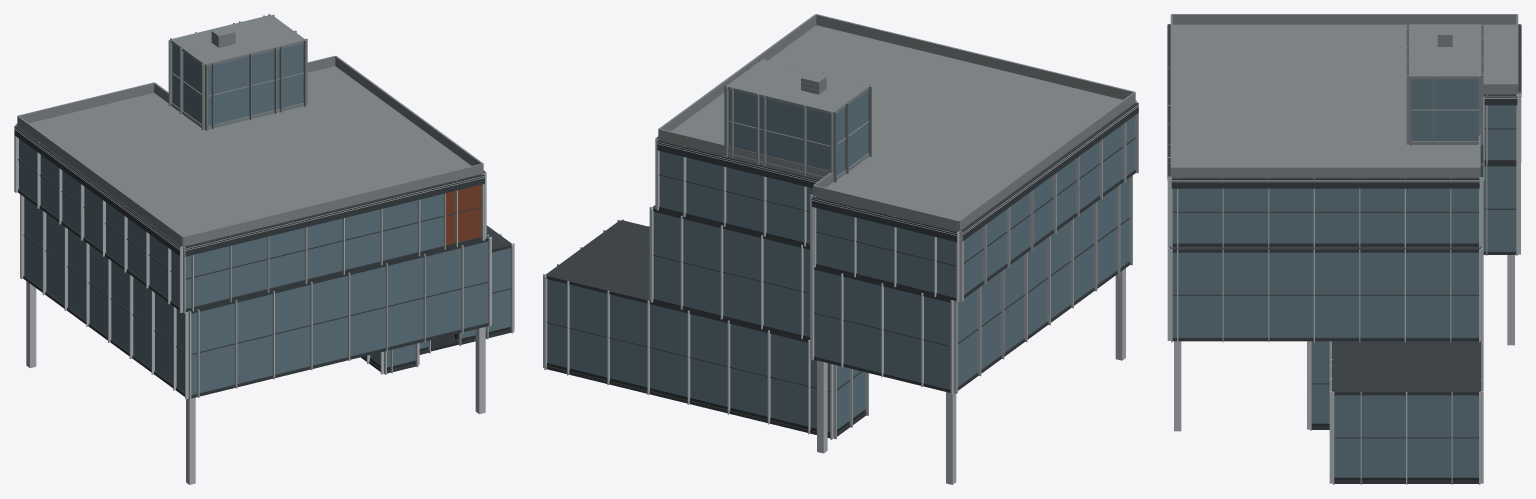
File: building-v2-lod1.glb
3 views of the same model, side by side, from view 1: azimuth 30°, elevation 25°; view 2: azimuth 150°, elevation 25°; view 3: azimuth 270°, elevation 25° (orthographic). The views are drawn at different scales.
Visible parts, largest first — view 1: building-v2_MATERIAL_BATCH; view 2: building-v2_MATERIAL_BATCH; view 3: building-v2_MATERIAL_BATCH.
Part boxes in pixels (x1,y1,x2,y2): building-v2_MATERIAL_BATCH: (14,14,514,484); building-v2_MATERIAL_BATCH: (543,14,1138,484); building-v2_MATERIAL_BATCH: (1167,14,1521,484).
Bounding box in the file's own units: 29.52 × 21.8 × 21.03.
